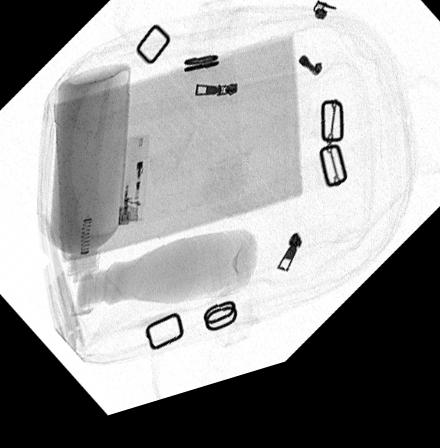Lighter: (117, 141, 149, 234)
